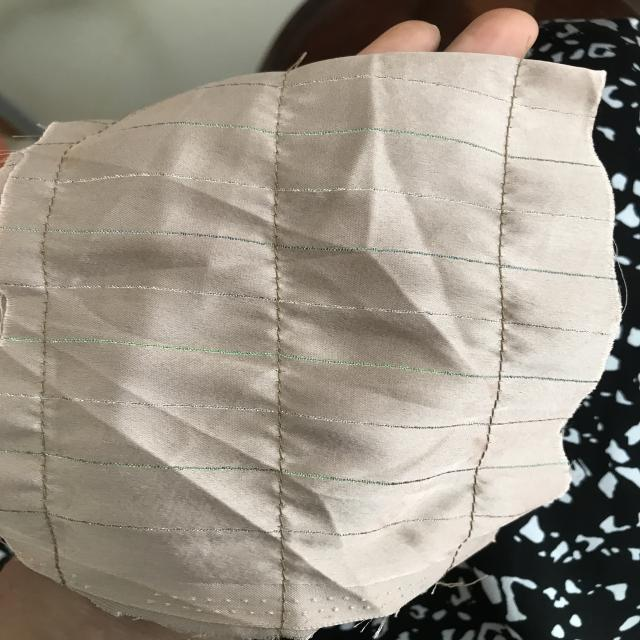good: (257, 132, 302, 176), (268, 367, 295, 408)
